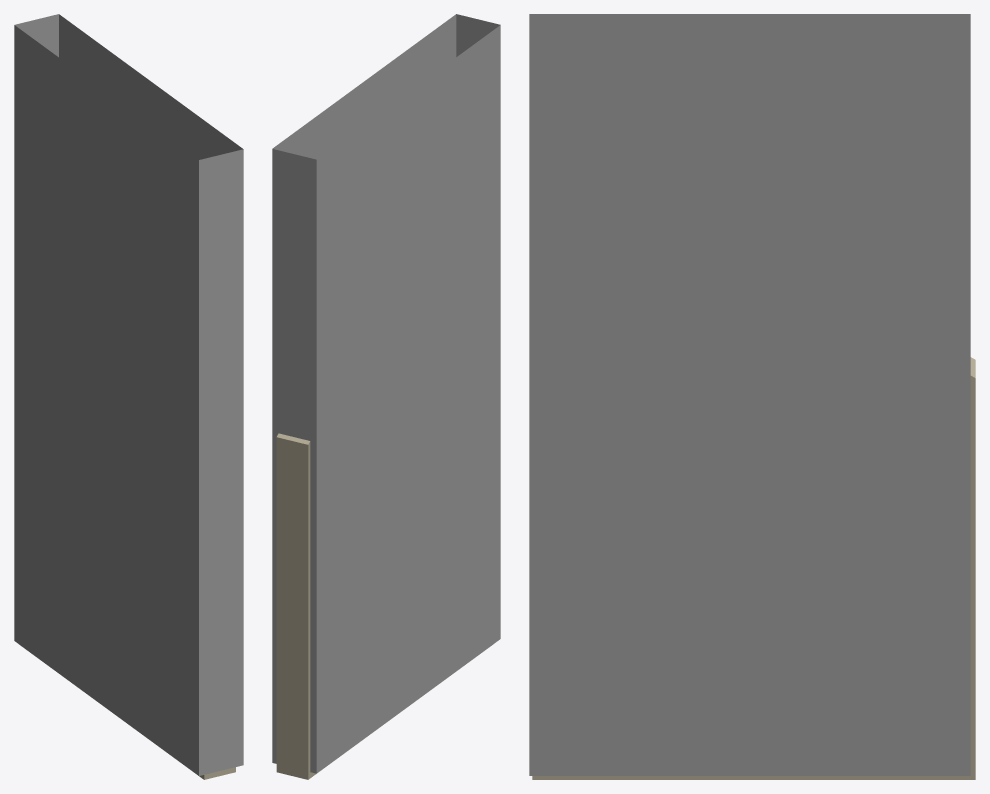
Rendered from item_door.fbx.
3 views of the same model, side by side, from view 1: azimuth 30°, elevation 25°; view 2: azimuth 150°, elevation 25°; view 3: azimuth 270°, elevation 25° (orthographic). The views are drawn at different scales.
Parts seen in each view (by area): view 1: simple; view 2: simple, door; view 3: simple, door.
Part boxes in pixels (x1,y1,x2,y2): simple: [14, 14, 243, 775]; simple: [272, 14, 500, 773]; door: [276, 433, 491, 779]; simple: [529, 14, 970, 775]; door: [532, 357, 975, 779].
Bounding box in the file's own units: 0.5395 × 7.2 × 3.91.
